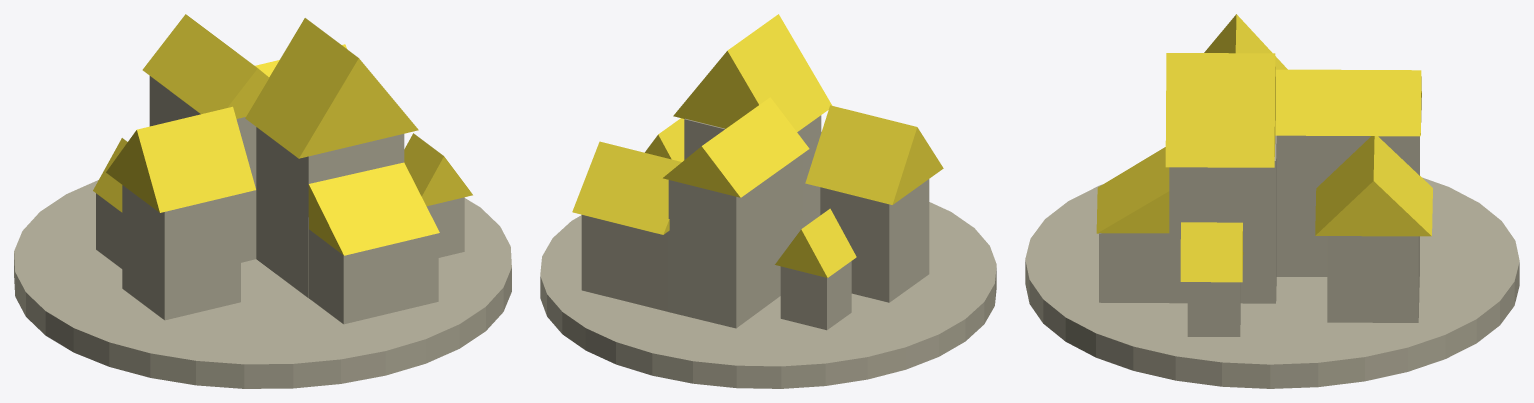
The model's file is yellowVillage.fbx.
The picture shows the model from 3 angles, left to right: view 1: azimuth 30°, elevation 25°; view 2: azimuth 150°, elevation 25°; view 3: azimuth 270°, elevation 25°; orthographic projection. The views are drawn at different scales.
Visible parts, largest first — view 1: Cylinder.391; view 2: Cylinder.391; view 3: Cylinder.391.
Boxes of the visible parts, x1=… form: Cylinder.391: x1=14, y1=14, x2=511, y2=388; Cylinder.391: x1=540, y1=14, x2=996, y2=388; Cylinder.391: x1=1025, y1=14, x2=1519, y2=388.
Bounding box in the file's own units: 45.34 × 25.5 × 45.34.
